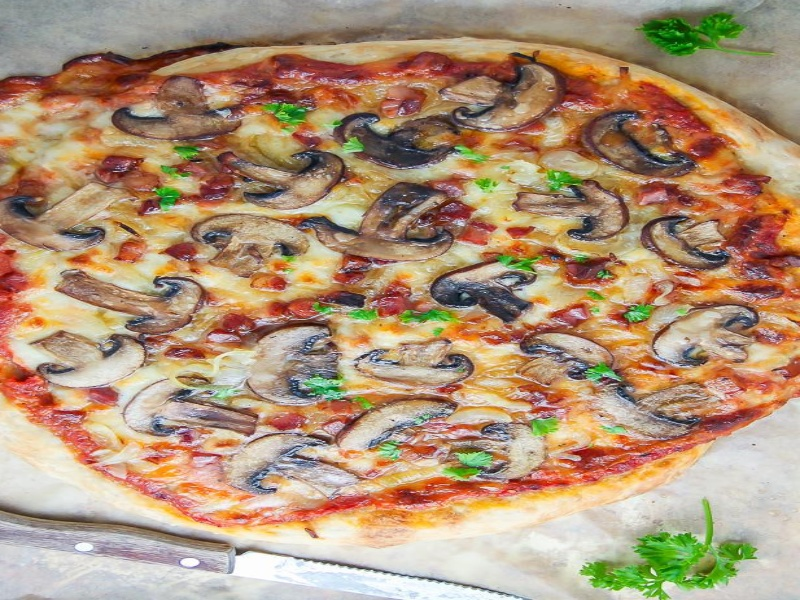champignon: (310, 174, 459, 269), (57, 254, 214, 339), (214, 430, 370, 509), (118, 373, 269, 454), (109, 75, 250, 154), (435, 57, 566, 139), (23, 330, 167, 403), (1, 180, 127, 261), (419, 251, 550, 328), (585, 106, 703, 187), (245, 323, 348, 412), (334, 104, 466, 173), (216, 149, 352, 215), (510, 175, 633, 246), (189, 212, 311, 282), (335, 392, 469, 453), (652, 301, 756, 373), (515, 322, 617, 395), (354, 335, 489, 389), (452, 418, 557, 486), (640, 215, 733, 280)
